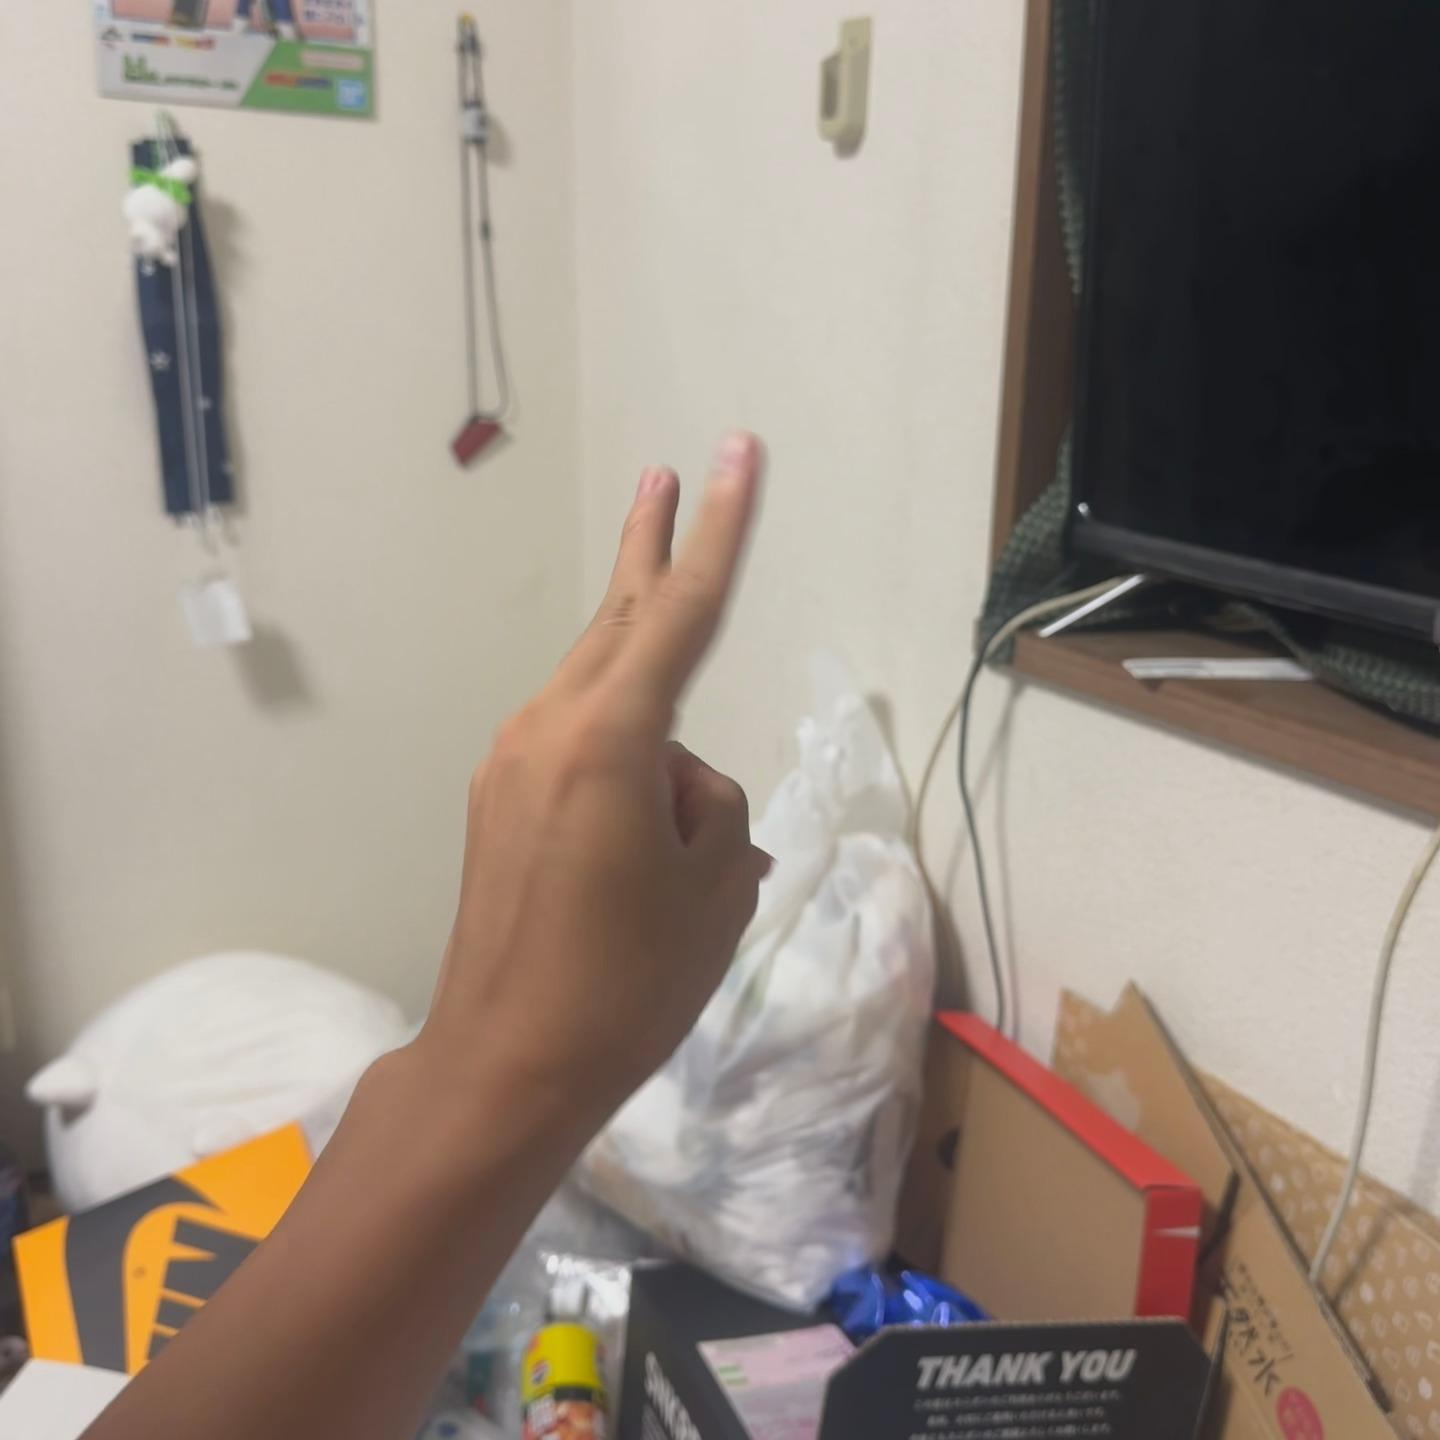without_gloves: (372, 380, 1046, 1244)
